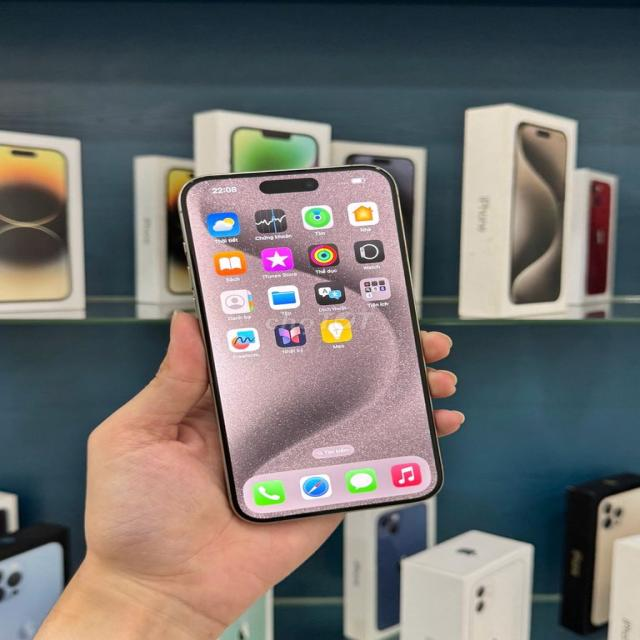gen_15: (167, 158, 450, 526)
scratch: (188, 175, 210, 183)
